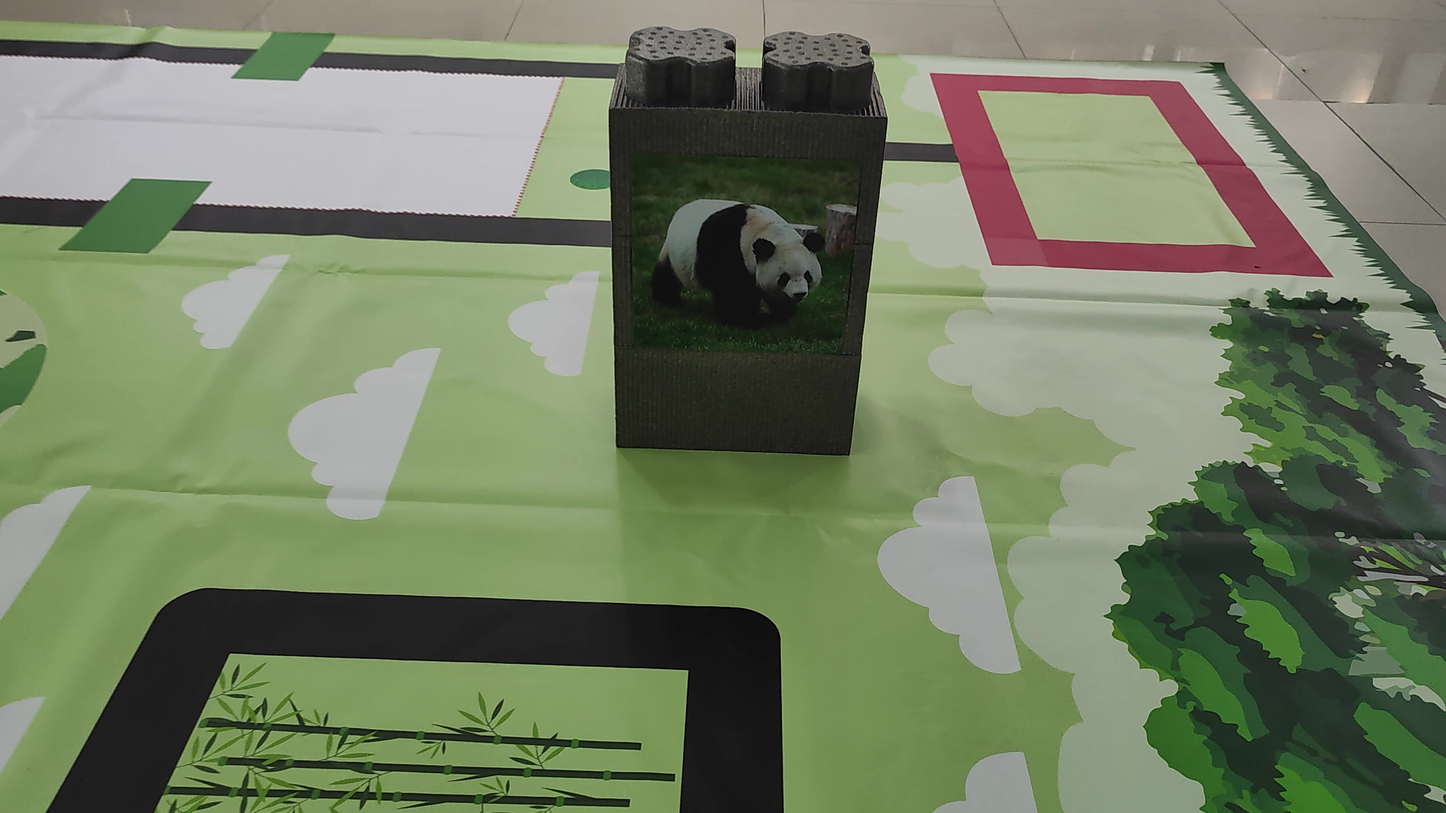panda: (636, 158, 849, 359)
